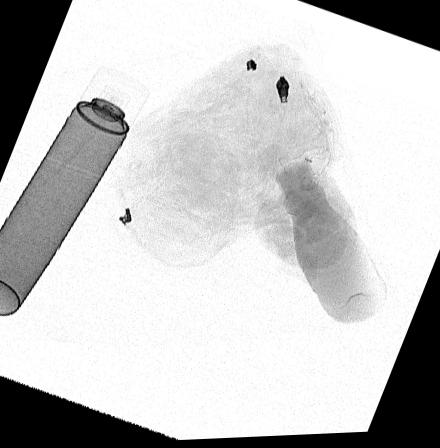Sprayer: (0, 68, 149, 317)
